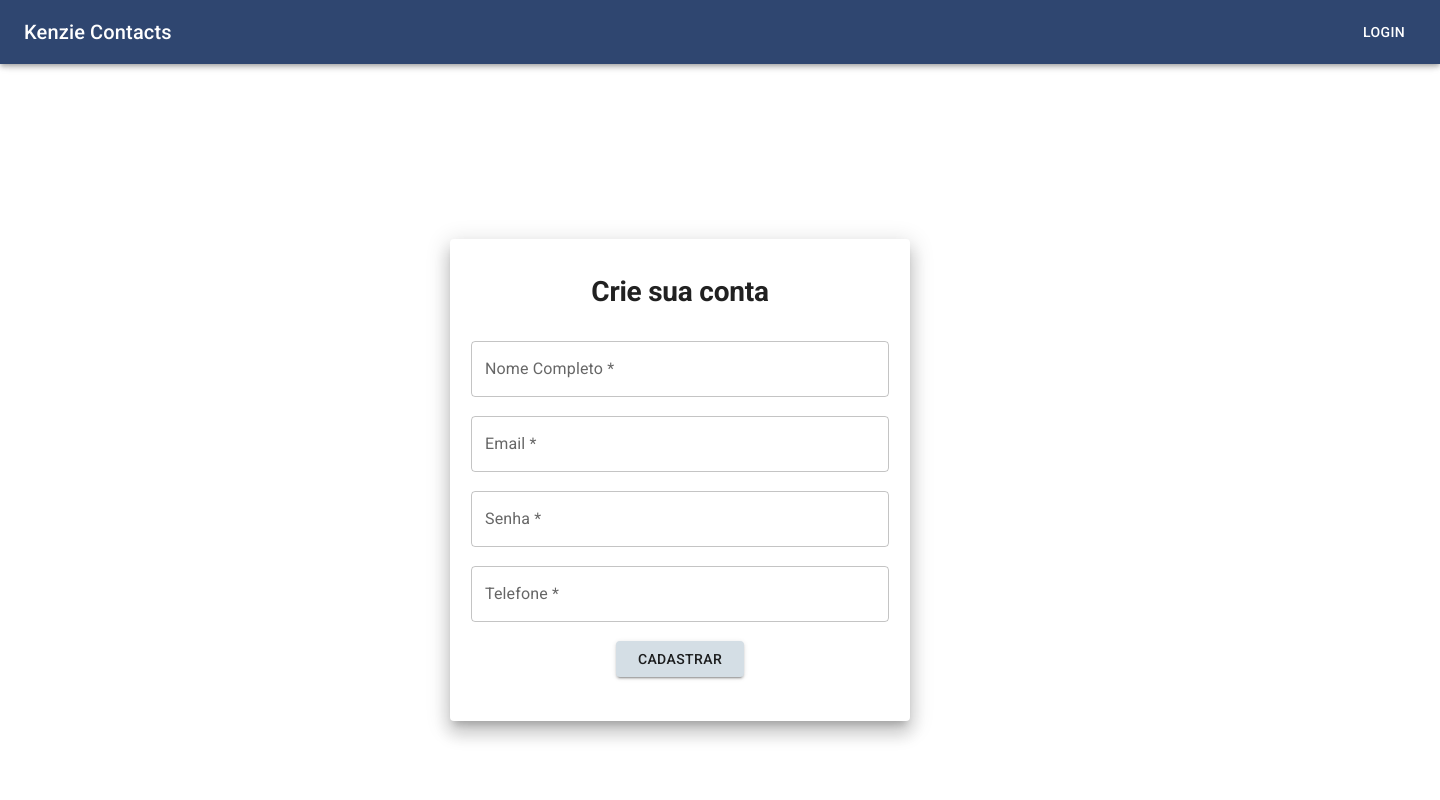
Test: Client › Tries to register without any data
Click the button "Cadastrar": click(681, 660) x1=616 y1=641 x2=745 y2=678
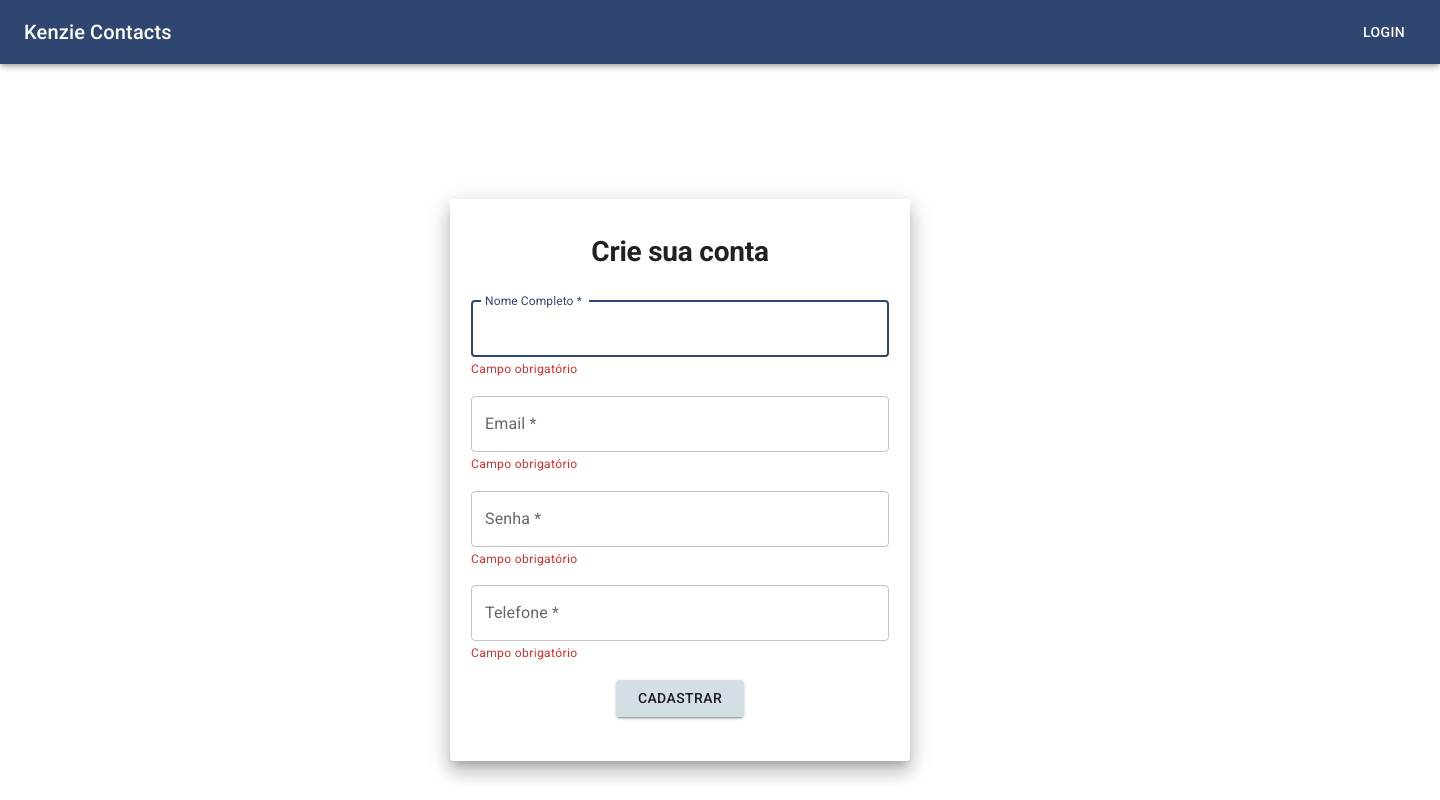
Check: the text "Campo obrigatório" below "Nome Completo *" is shown, box x1=471 y1=362 x2=578 y2=376
